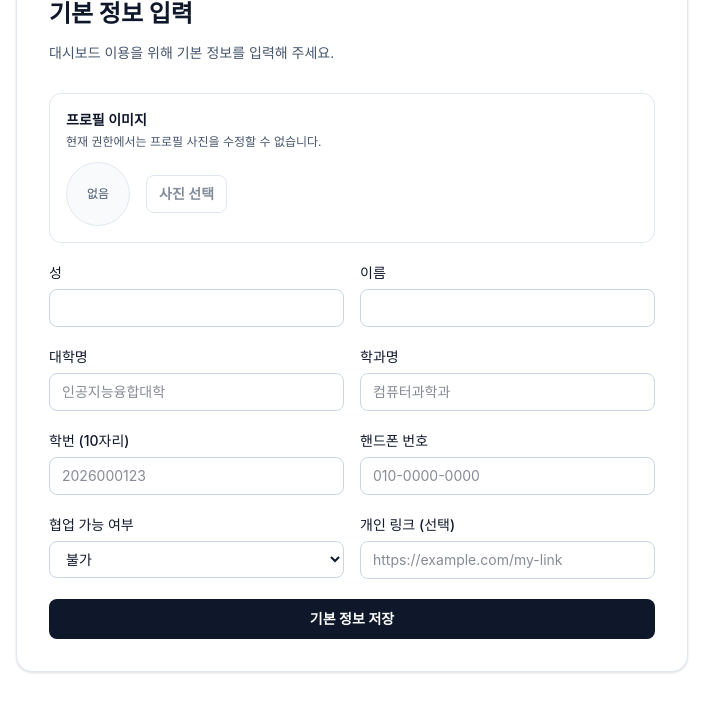
it: AuthProfileForm › shows field validation errors
(page scrolled)
Click the button with test id "auth-profile-submit" at (352, 619), box [49,599,655,639]
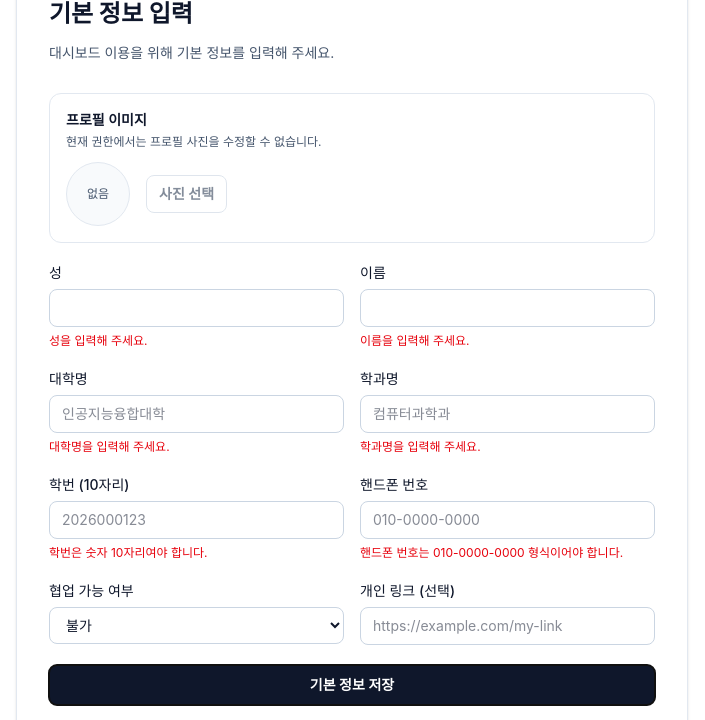
Now the text "성을 입력해 주세요." is shown, box [49,333,148,348]
Now the text "학번은 숫자 10자리여야 합니다." is shown, box [49,545,208,560]
Now the text "핸드폰 번호는 010-0000-0000 형식이어야 합니다." is shown, box [360,545,655,561]
